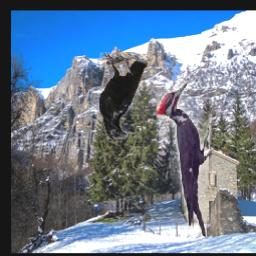Crow: (99, 52, 148, 139)
Woodpecker: (156, 81, 211, 236)
